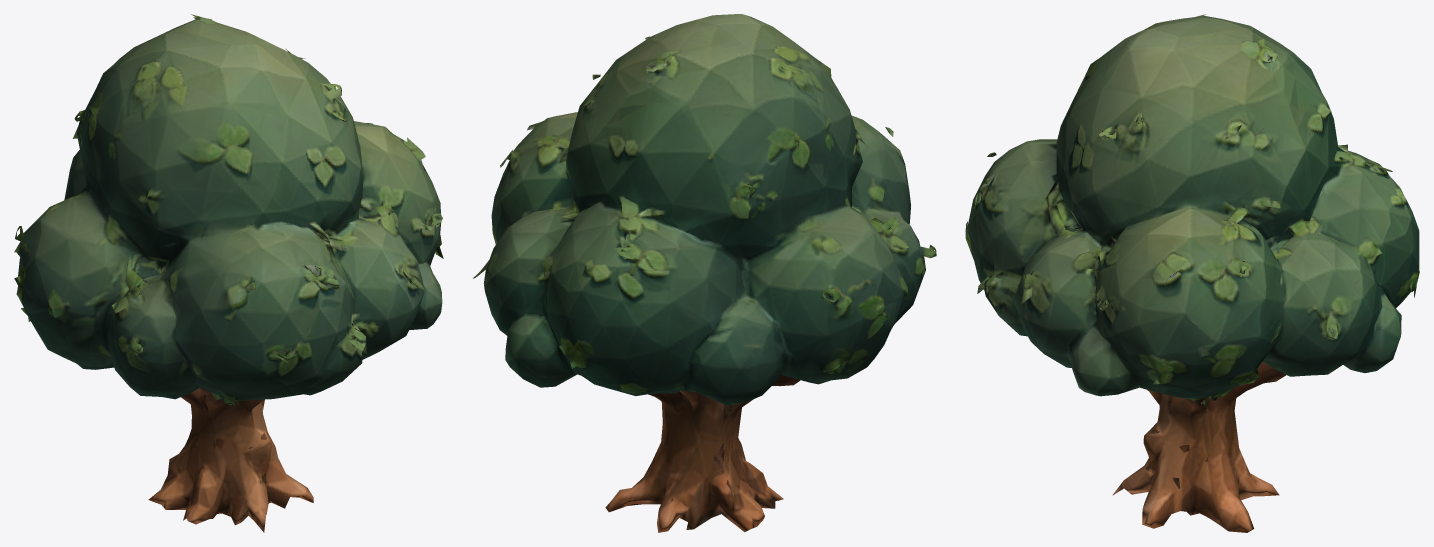
File: DDP_나무.glb
3 renders of one model, left to right at view 1: azimuth 30°, elevation 25°; view 2: azimuth 150°, elevation 25°; view 3: azimuth 270°, elevation 25°, orthographic. The views are drawn at different scales.
Parts seen in each view (by area): view 1: texture_mapping; view 2: texture_mapping; view 3: texture_mapping.
Part boxes in pixels (x1,y1,x2,y2): texture_mapping: [14, 14, 443, 532]; texture_mapping: [473, 14, 936, 532]; texture_mapping: [965, 14, 1419, 532].
Bounding box in the file's own units: 0.871 × 0.9898 × 0.8825.
1 material, 1 textured.
